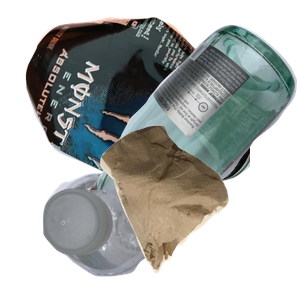glass: (86, 22, 300, 202)
metal: (23, 15, 263, 195)
plastic: (40, 170, 187, 300)
trash: (98, 123, 300, 300)
